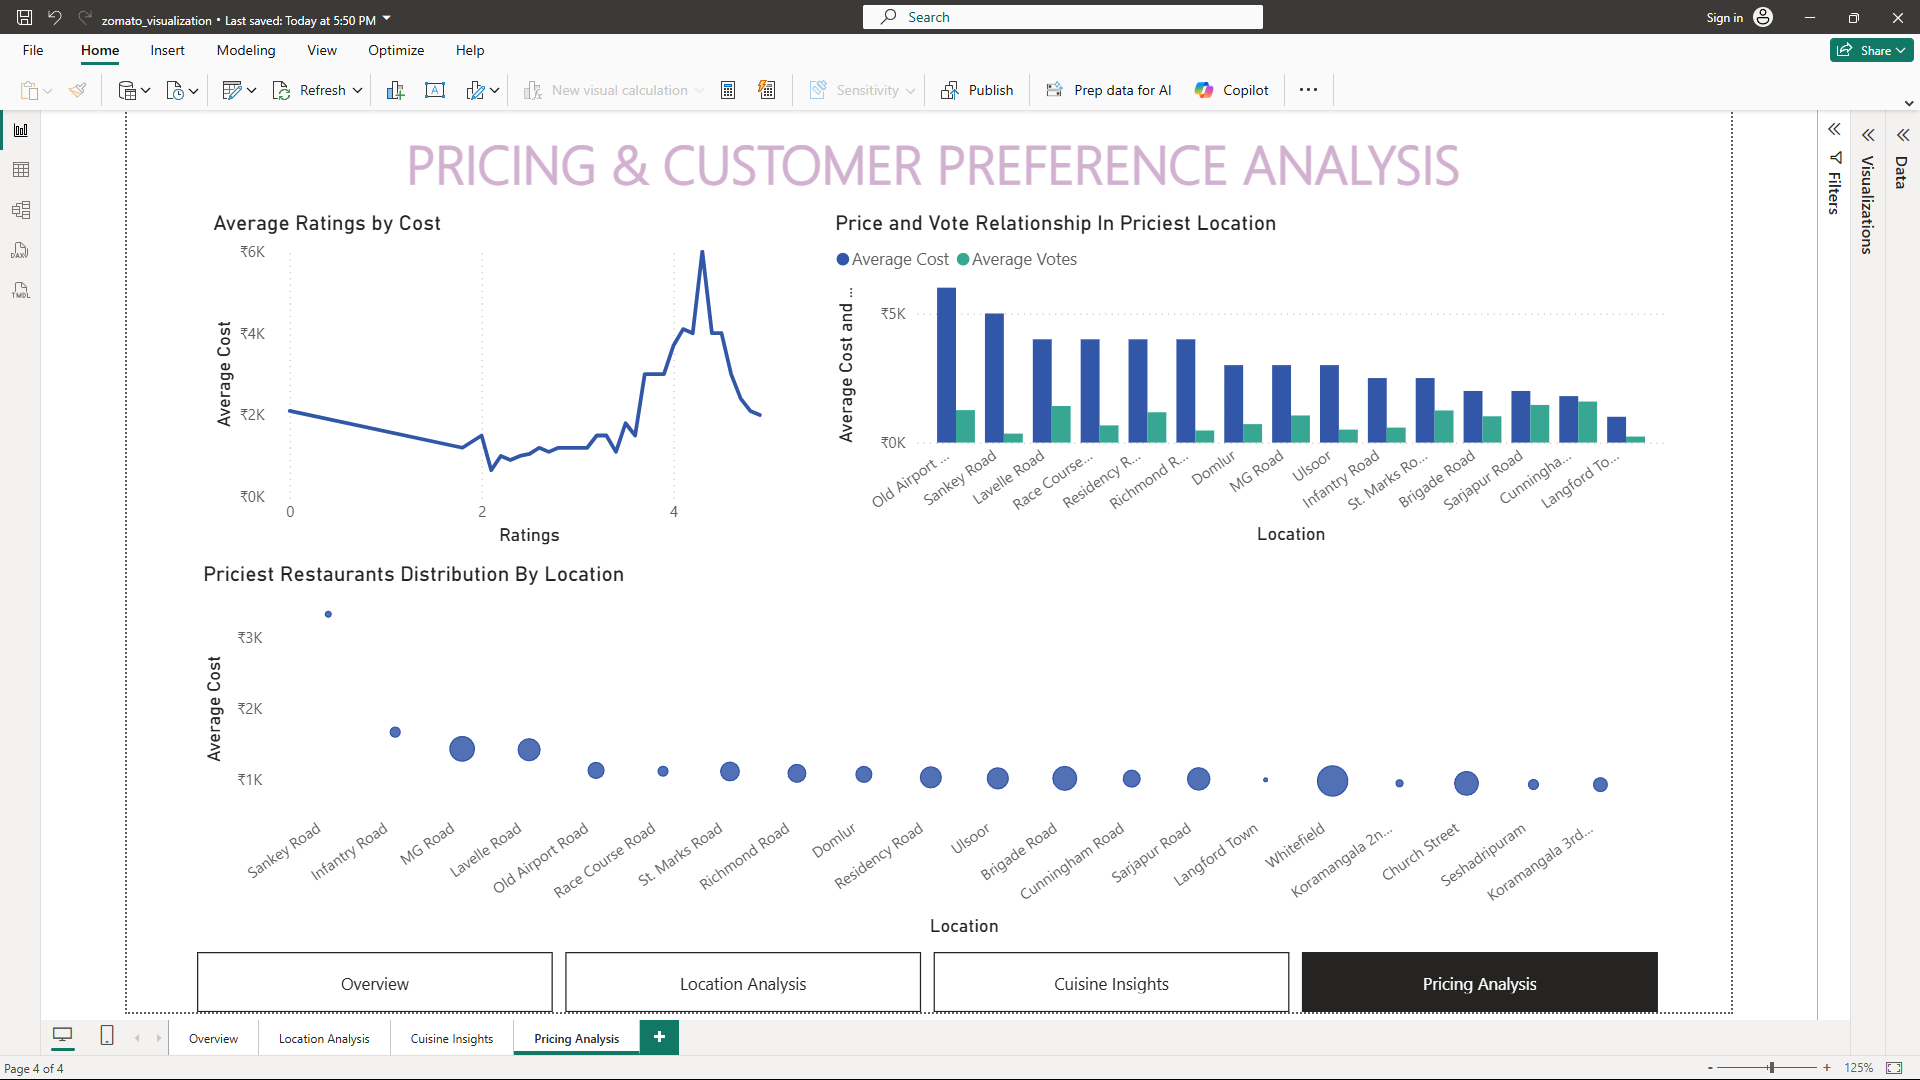

This screenshot's page, from the dashboard's own definition file:
{"tool":"powerbi","page":{"name":"Pricing Analysis","canvas":[1280,720],"ordinal":3},"visuals":[{"type":"scatterChart","title":"Priciest Restaurants Distribution By Location","fields":{"Size":["Count(fact_table.Index)"],"X":["fact_table.location"],"Y":["Avg(fact_table.cost(2 People))"]},"box":[56,360,1168,304],"z":0},{"type":"pageNavigator","box":[56,672,1168,48],"z":1000},{"type":"lineChart","title":"Average Ratings by Cost","fields":{"Y":["Max(fact_table.cost(2 People))"],"Category":["fact_table.ratings(out of 5)"]},"box":[64,80,464,272],"z":2000},{"type":"textbox","box":[64,8,1160,72],"z":3000},{"type":"clusteredColumnChart","title":"Price and Vote Relationship In Priciest Location","fields":{"Category":["fact_table.location"],"Y":["Max(fact_table.cost(2 People))","Avg(fact_table.votes)"]},"box":[560,80,672,272],"z":4000}]}

Visuals, with their boxes on the page's 1280x720 design canvas (x1, y1, x2, y2). These are canvas units, not pixel positions in the 1920x1080 screenshot, which may show the page scaled, cropped or inside an application window:
"Priciest Restaurants Distribution By Location" scatterChart: crop(56, 360, 1224, 664)
pageNavigator: crop(56, 672, 1224, 720)
"Average Ratings by Cost" lineChart: crop(64, 80, 528, 352)
textbox: crop(64, 8, 1224, 80)
"Price and Vote Relationship In Priciest Location" clusteredColumnChart: crop(560, 80, 1232, 352)
